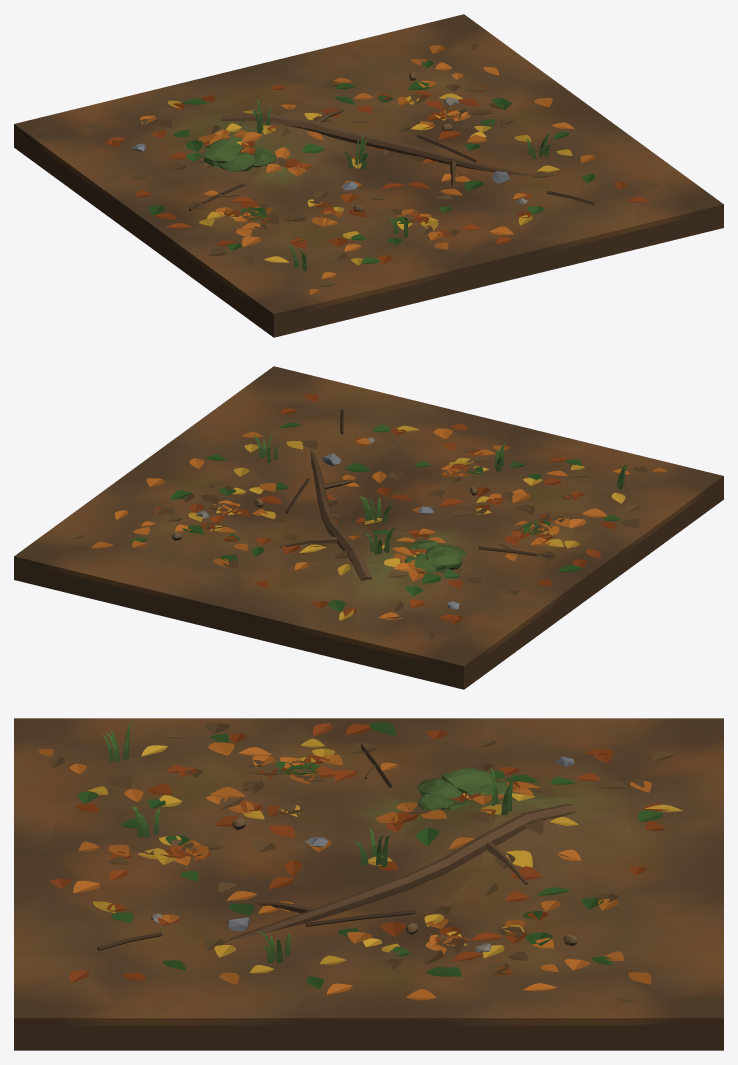
The model's file is forest-floor.glb.
3 renders of one model, top to bottom at view 1: azimuth 30°, elevation 25°; view 2: azimuth 150°, elevation 25°; view 3: azimuth 270°, elevation 25°, orthographic. The views are drawn at different scales.
Visible parts, largest first — view 1: forest_floor; view 2: forest_floor; view 3: forest_floor.
Part boxes in pixels (box(x1,y1,x2,y2)): forest_floor: box(14, 14, 723, 337); forest_floor: box(14, 366, 723, 689); forest_floor: box(14, 718, 723, 1050).
Bounding box in the file's own units: 4 × 0.5484 × 4.
